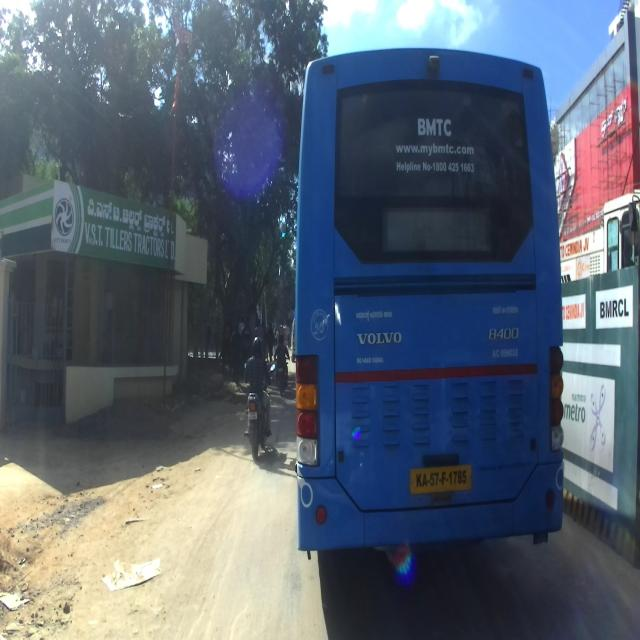bus: (295, 44, 563, 558)
motorcycle_Hero: (243, 363, 276, 460)
